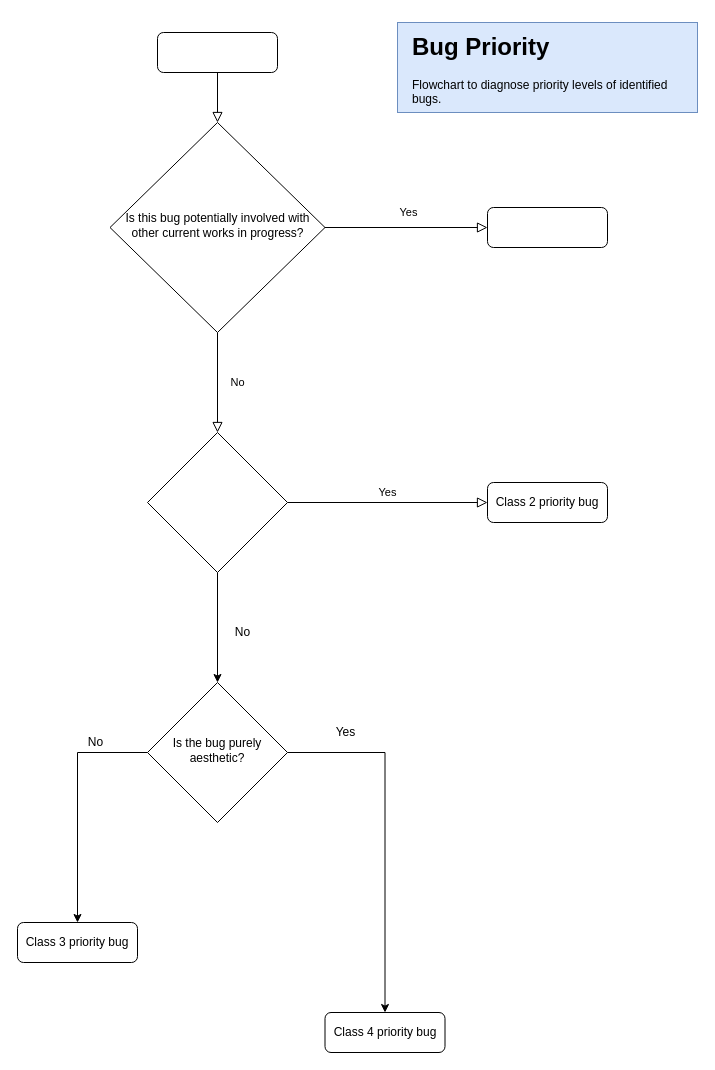
Image size: 715x1070. Some labels were removed from this diagram. Here are the shapes that lost their labels. From the top down, the box of each, then its label:
(156, 32, 278, 72): Bug Identified
(486, 206, 608, 248): Class 1 priority bug
(146, 432, 288, 572): Does the bug affect functionality?
